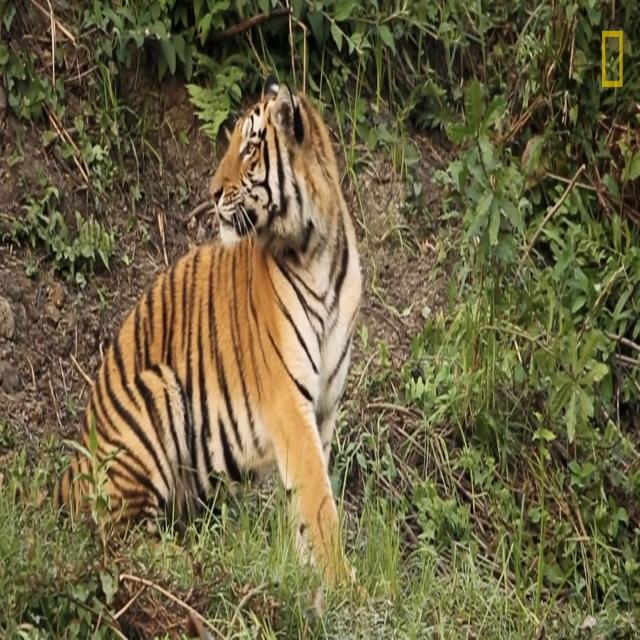TIGER: (58, 69, 362, 605)
